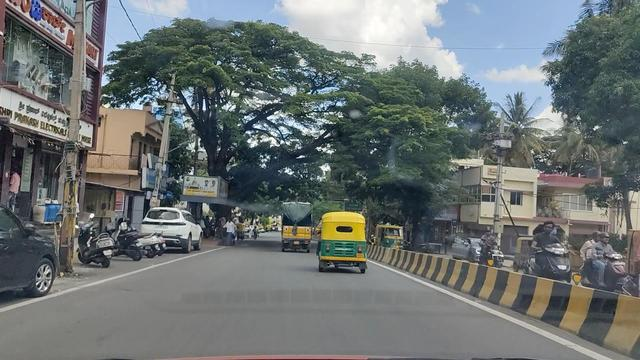HMV: (282, 201, 312, 249)
LMV: (322, 213, 365, 269)
